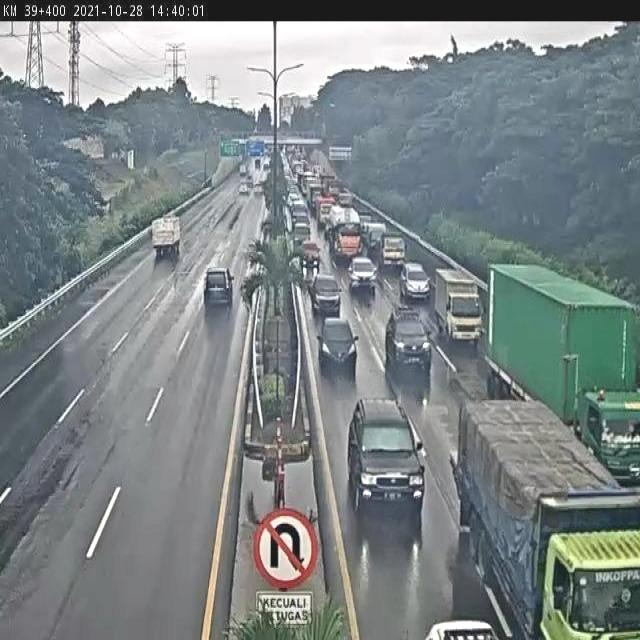Car: (343, 397, 424, 517), (385, 304, 433, 381), (316, 315, 360, 380), (421, 618, 502, 640), (203, 268, 235, 316), (307, 272, 341, 316), (398, 261, 431, 301), (347, 256, 379, 296)
Truck: (453, 392, 632, 640), (488, 266, 638, 431), (434, 268, 486, 349), (326, 204, 360, 262), (151, 215, 180, 259), (360, 221, 386, 258), (381, 234, 406, 270), (316, 194, 336, 228), (302, 239, 321, 271), (290, 196, 308, 229), (292, 219, 310, 248), (306, 177, 322, 209), (327, 183, 345, 204), (296, 169, 311, 194), (321, 175, 336, 199), (338, 190, 353, 209), (294, 163, 304, 184), (239, 182, 249, 195), (254, 182, 263, 195), (240, 163, 248, 176), (264, 156, 270, 168)
